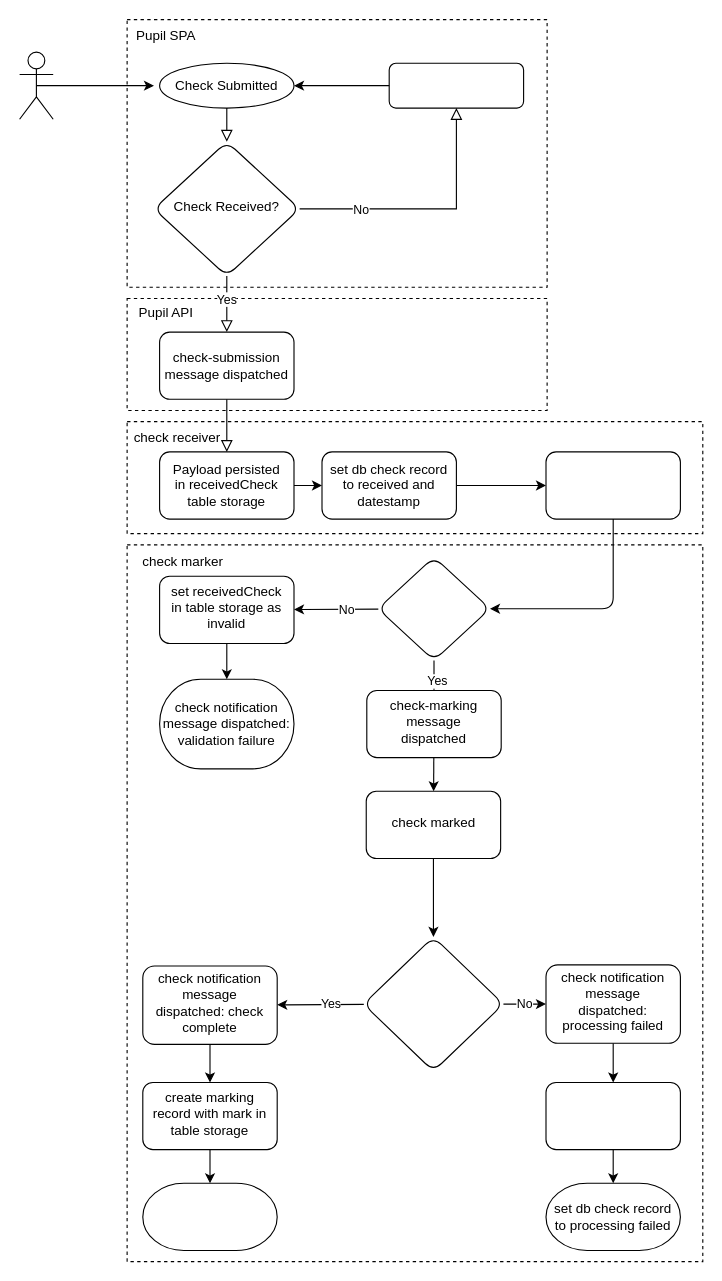
This 722x1281 diagram has some shape labels left out. The shapes that lost their labels are listed below. From the top down, each one's box as (x1, y1, x2, y2) in pixels, then its label:
(18, 51, 53, 119): Pupil
(388, 62, 524, 108): Pupil Check retry policy engaged
(545, 451, 680, 519): check-validation message dispatched
(377, 556, 490, 660): Check Valid?
(362, 936, 503, 1071): check marked successfully?
(545, 1081, 680, 1150): failed marking record created in table storage
(142, 1182, 277, 1250): set db check record to check complete
